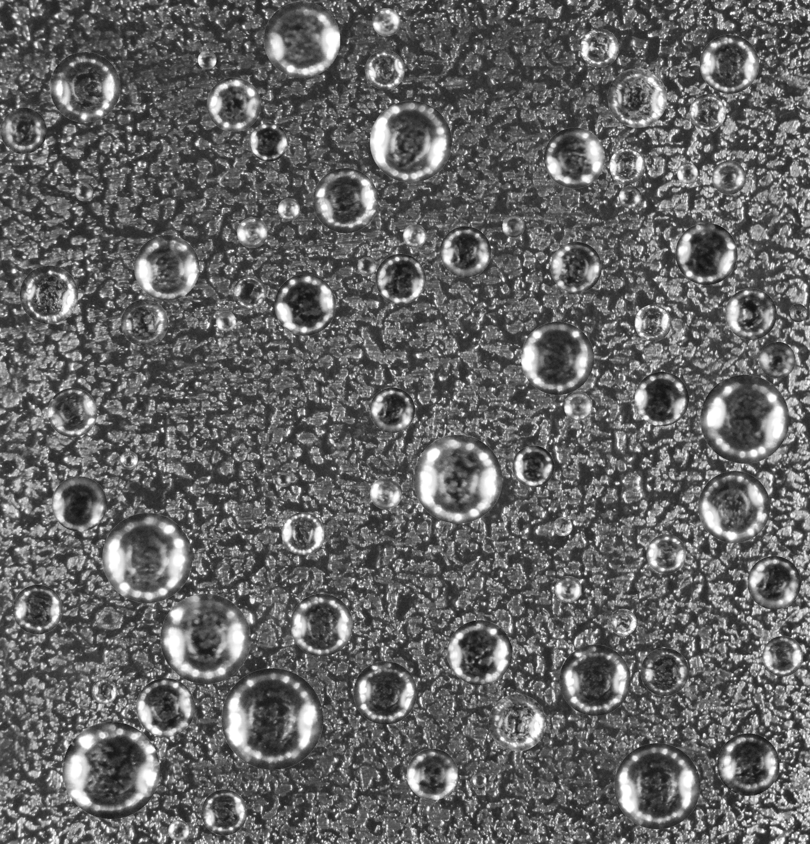Bubble: (221, 668, 323, 769), (62, 721, 159, 819), (160, 593, 250, 684), (102, 513, 192, 603), (700, 374, 789, 463), (413, 434, 502, 523), (614, 743, 700, 829), (370, 100, 451, 182), (263, 1, 340, 77), (521, 321, 594, 394), (698, 471, 770, 543), (49, 51, 120, 122), (559, 644, 630, 715), (134, 235, 199, 300), (313, 168, 378, 233), (447, 620, 512, 685), (353, 661, 416, 724), (290, 593, 352, 656), (717, 733, 779, 795), (675, 222, 737, 284), (274, 274, 335, 335), (544, 127, 604, 188), (607, 68, 667, 127), (700, 34, 759, 93), (136, 678, 194, 737), (19, 265, 78, 323), (488, 694, 545, 751), (634, 371, 689, 426), (51, 476, 106, 531), (206, 77, 260, 131), (747, 556, 801, 609), (406, 748, 458, 800), (439, 226, 491, 277), (725, 288, 776, 339), (550, 241, 601, 292), (375, 253, 425, 304), (12, 584, 62, 634), (47, 388, 97, 437), (640, 648, 688, 696), (121, 299, 168, 346), (201, 789, 247, 835), (0, 107, 46, 153), (369, 387, 415, 432), (281, 512, 324, 555), (512, 445, 554, 487), (762, 636, 803, 676), (646, 534, 686, 573), (365, 50, 404, 89), (580, 28, 618, 67), (249, 123, 287, 161), (634, 304, 671, 341), (759, 341, 795, 378), (609, 148, 645, 184), (689, 94, 725, 130), (712, 160, 746, 194), (232, 276, 265, 309), (370, 477, 402, 509), (237, 217, 267, 247), (372, 8, 400, 36), (564, 392, 592, 420), (610, 609, 636, 635), (555, 576, 581, 602), (91, 679, 116, 704), (403, 224, 426, 247), (618, 185, 641, 208), (502, 215, 524, 237), (277, 198, 299, 220), (677, 162, 698, 183), (168, 820, 189, 841), (216, 311, 235, 331), (553, 517, 572, 536), (197, 50, 216, 69), (357, 257, 376, 275), (789, 303, 807, 322), (119, 451, 137, 469), (75, 183, 92, 201), (471, 773, 486, 787), (276, 472, 290, 486), (471, 308, 482, 319), (8, 578, 18, 587)
